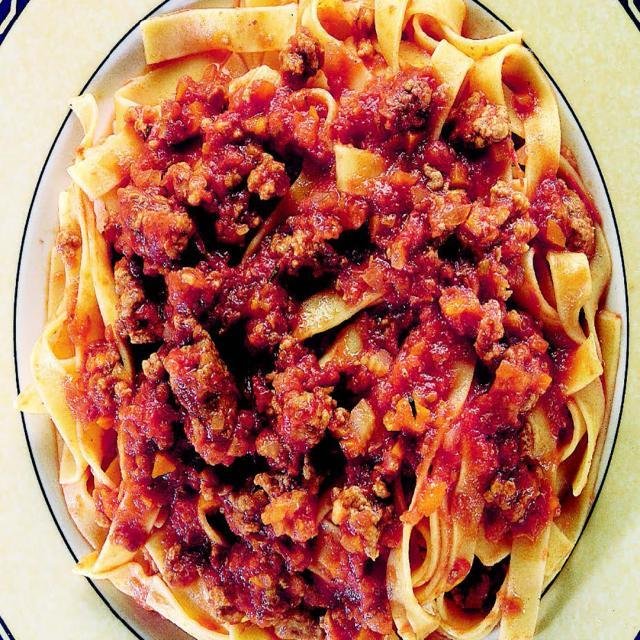Pasta al ragu: (72, 20, 600, 602)
